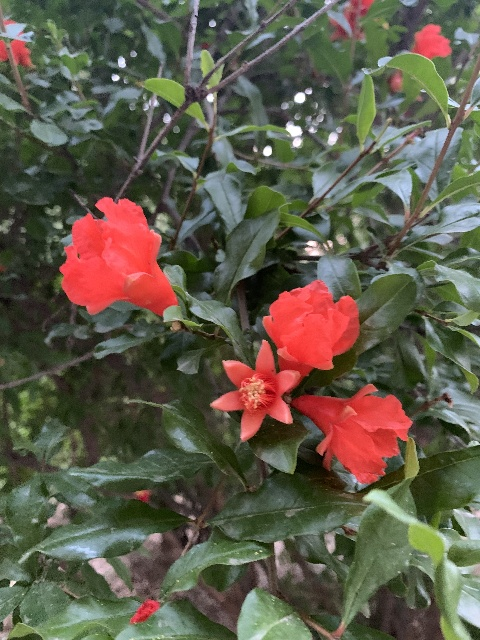flower: (59, 196, 177, 317), (292, 383, 412, 483), (262, 279, 360, 392), (209, 339, 299, 442), (410, 23, 452, 59)
